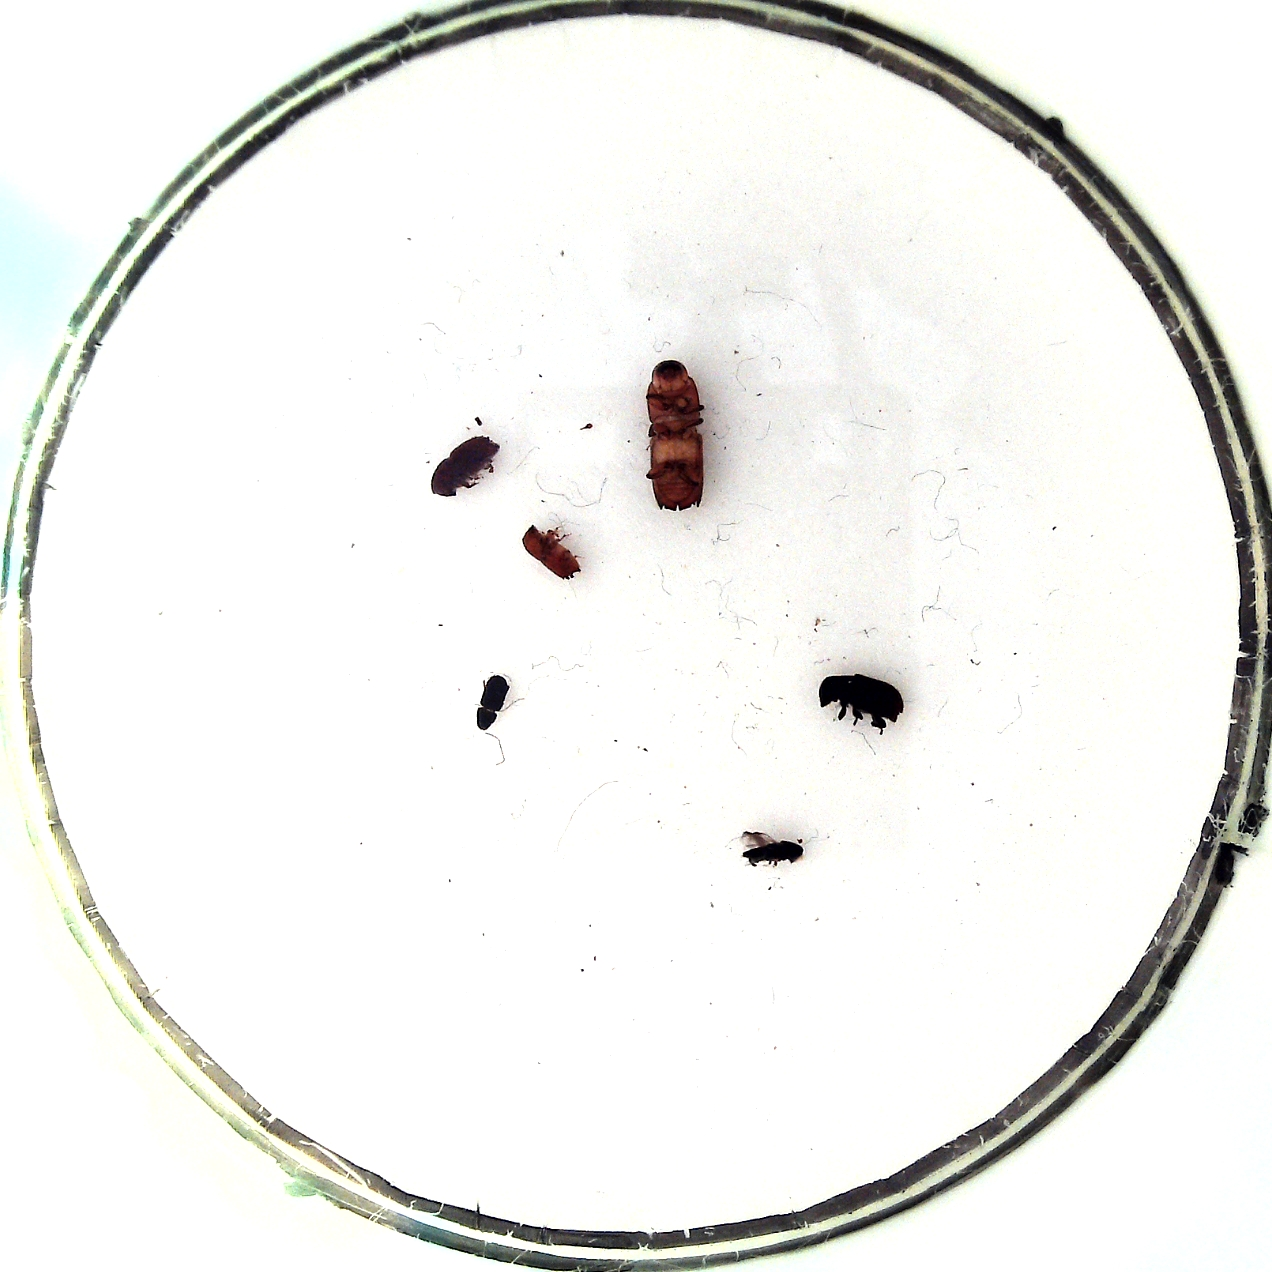Boerner: (646, 359, 706, 513)
acuminatus: (475, 674, 510, 732), (742, 840, 804, 865)
armandi: (819, 673, 904, 726)
coleoptera: (523, 525, 580, 580)
linnaeus: (430, 436, 501, 497)
